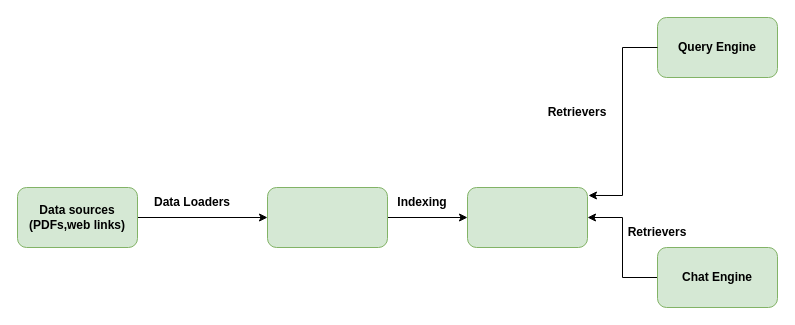
Image size: 795x325. Some labels were removed from this diagram. The centre of each missing label's shape, as x and y in pixels:
"Documents/Nodes" belongs at (x=327, y=217).
"Index Knowledge Base" belongs at (x=527, y=217).
